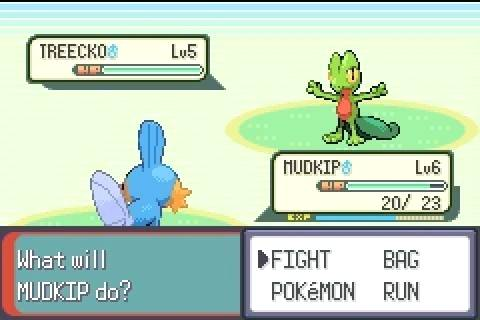mudkip: (87, 119, 193, 236)
